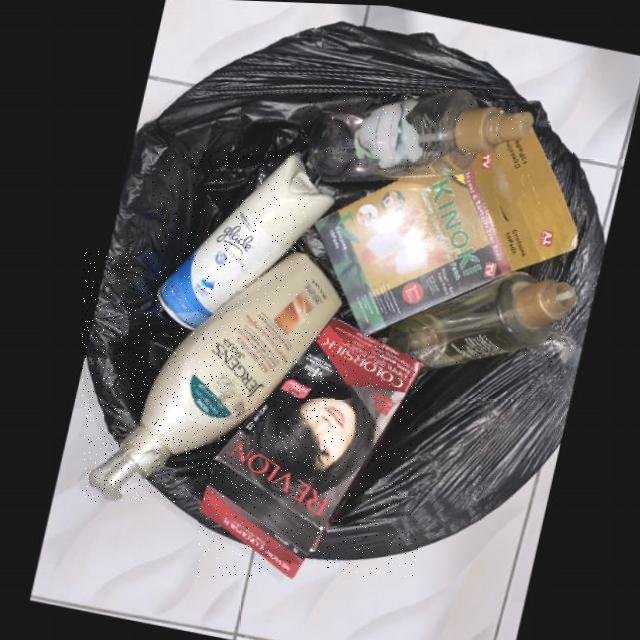metal: (153, 150, 330, 328)
paper: (198, 314, 418, 576), (310, 123, 573, 332)
plastic: (83, 251, 335, 502), (303, 86, 527, 179), (383, 266, 573, 365)
